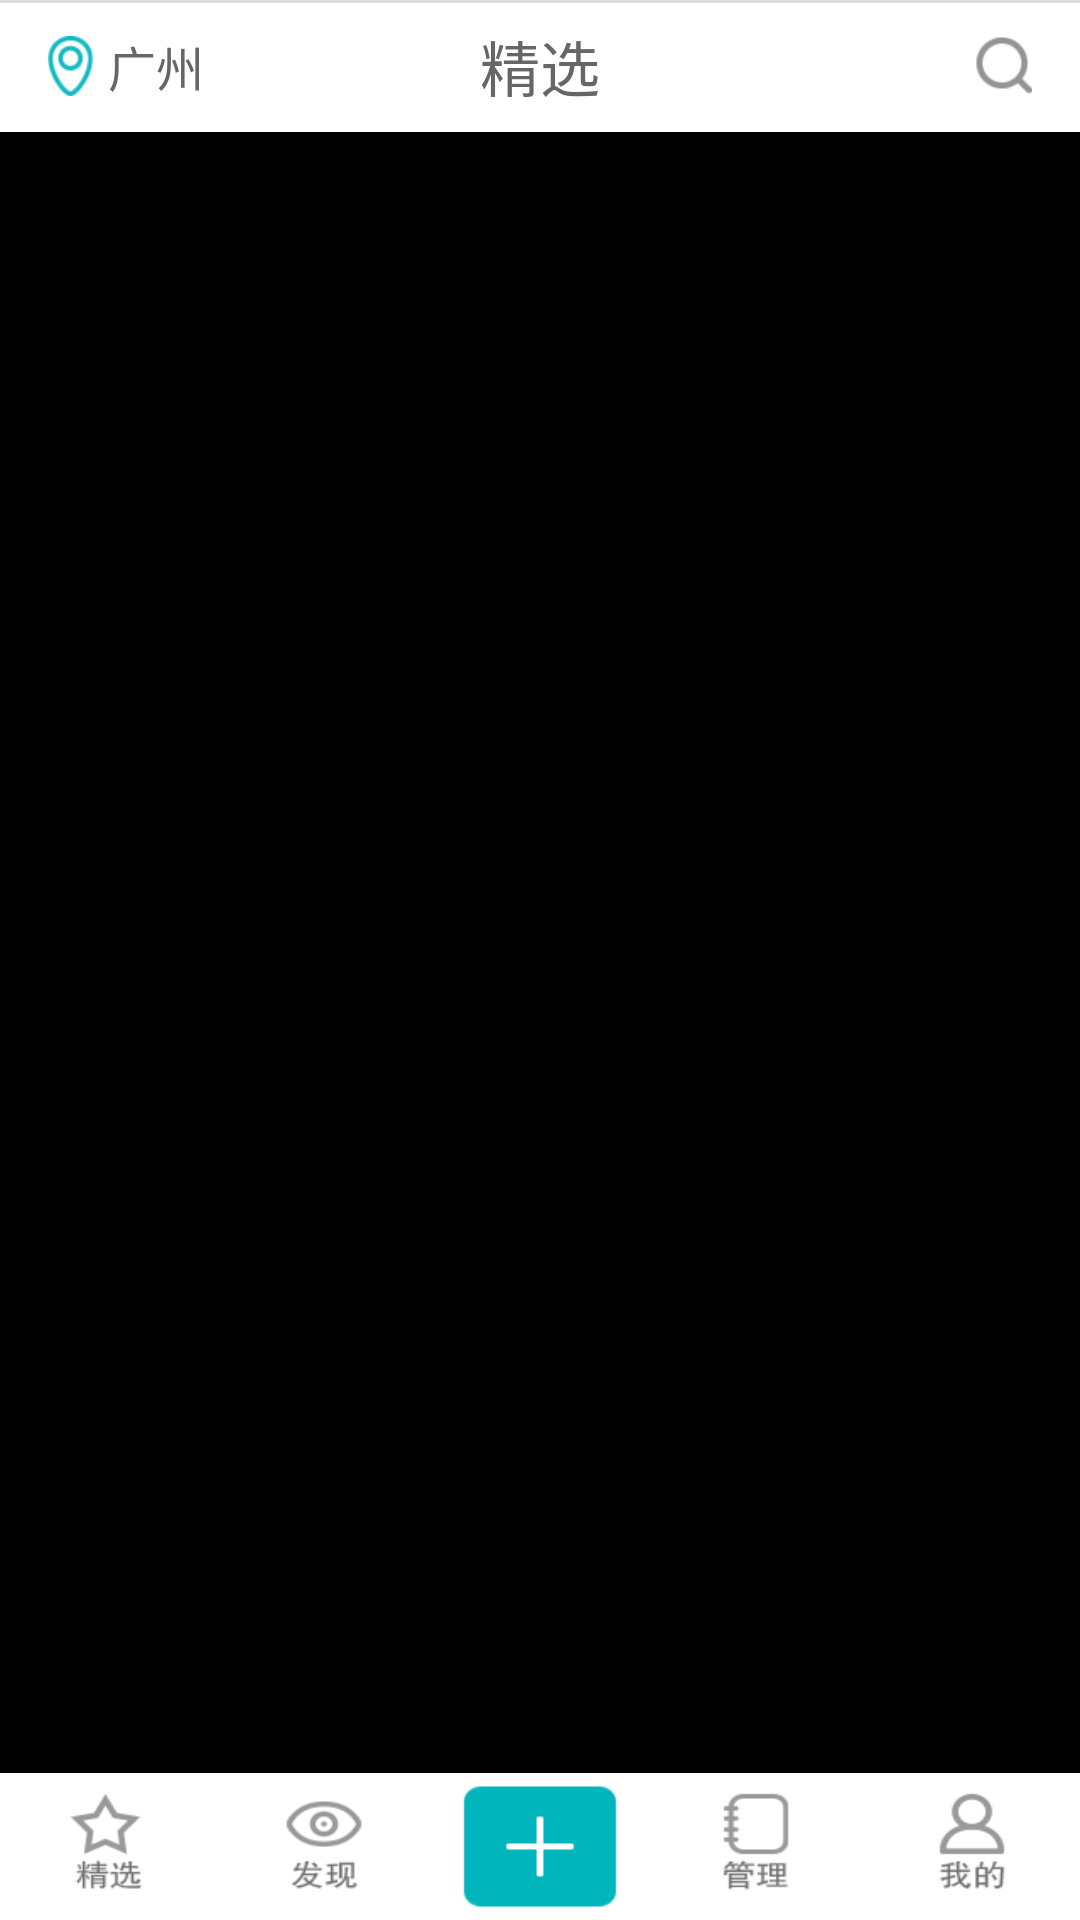

Icons on this 1080px×1920px Android screen, each with its box as [x1=x1, y1=y1, x2=x2, y2=y2]:
add: [x1=463, y1=1786, x2=617, y2=1907]
location: [x1=48, y1=36, x2=94, y2=96]
search ib: [x1=976, y1=37, x2=1032, y2=93]
star rb: [x1=71, y1=1794, x2=142, y2=1889]
view rb: [x1=286, y1=1801, x2=362, y2=1889]
